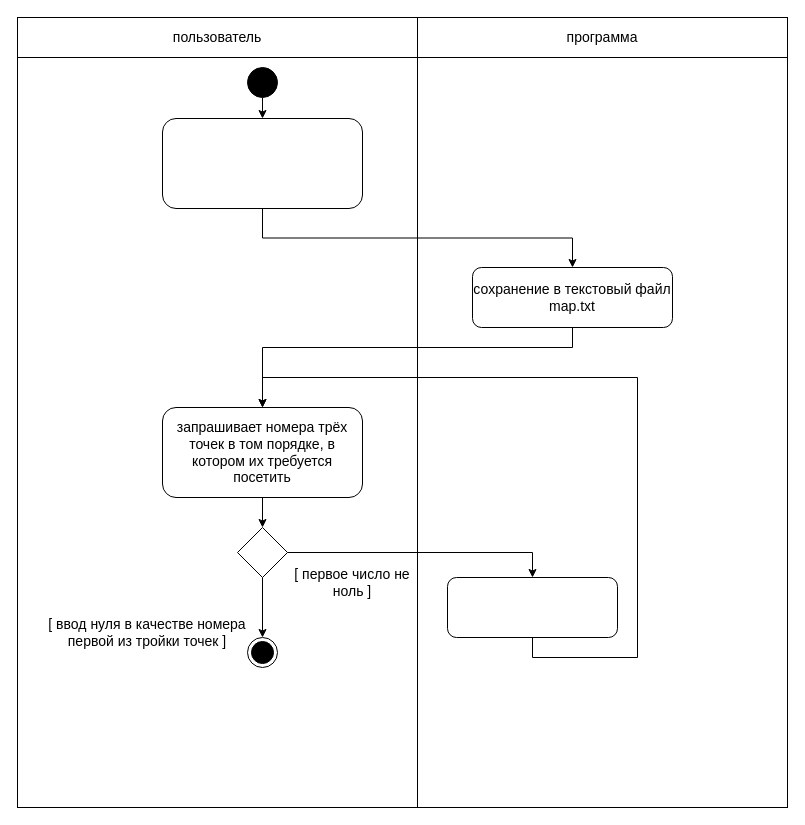
Image size: 805x825. Some labels were removed from this diagram. The centre of each missing label's shape, as x and y in pixels:
ввод целочисленных номеров точек и расстояний между парами связанных точек: the point at 262,163
выводит соответствующий кратчайший маршрут: the point at 532,607
